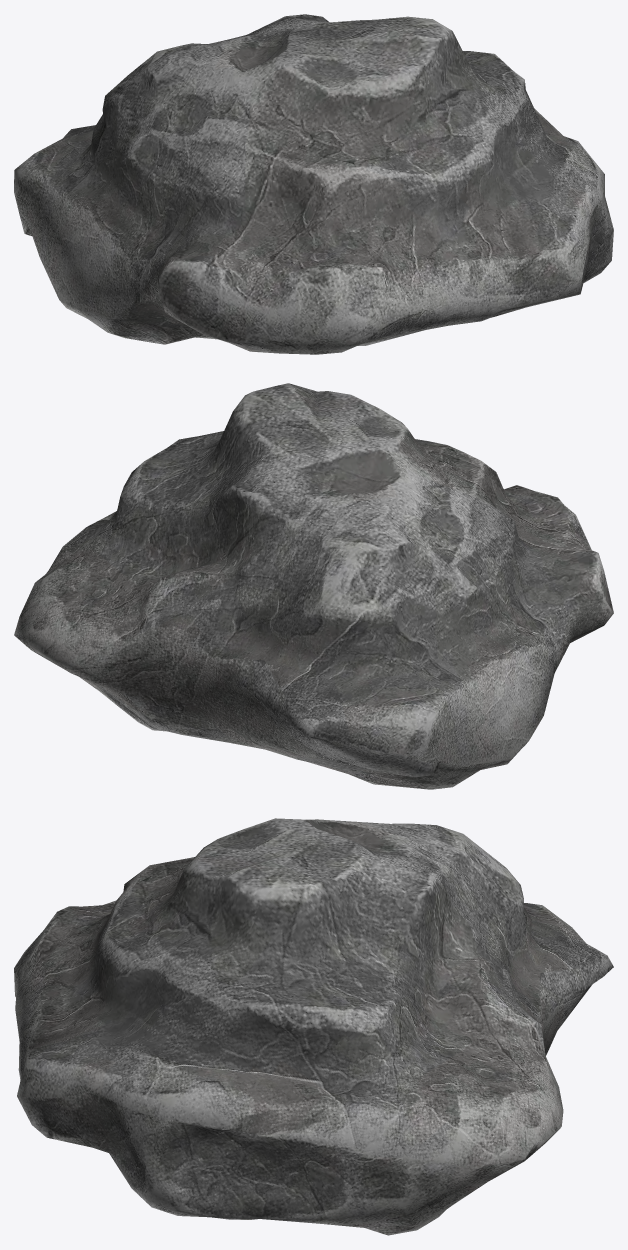
3 renders of one model, top to bottom at view 1: azimuth 30°, elevation 25°; view 2: azimuth 150°, elevation 25°; view 3: azimuth 270°, elevation 25°, orthographic. The views are drawn at different scales.
Parts seen in each view (by area): view 1: Icosphere_001; view 2: Icosphere_001; view 3: Icosphere_001.
Part boxes in pixels (left/top/right/bottom): Icosphere_001: left=14, top=14, right=613, bottom=354; Icosphere_001: left=14, top=383, right=613, bottom=789; Icosphere_001: left=14, top=818, right=613, bottom=1235.
Size of the model in its own units: 5.68 by 3.33 by 5.75.
1 material, 1 textured.
